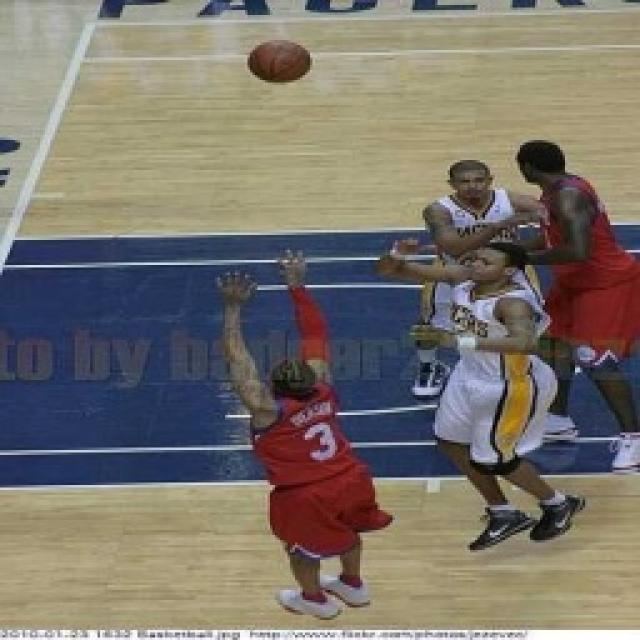rim: (244, 32, 316, 92)
